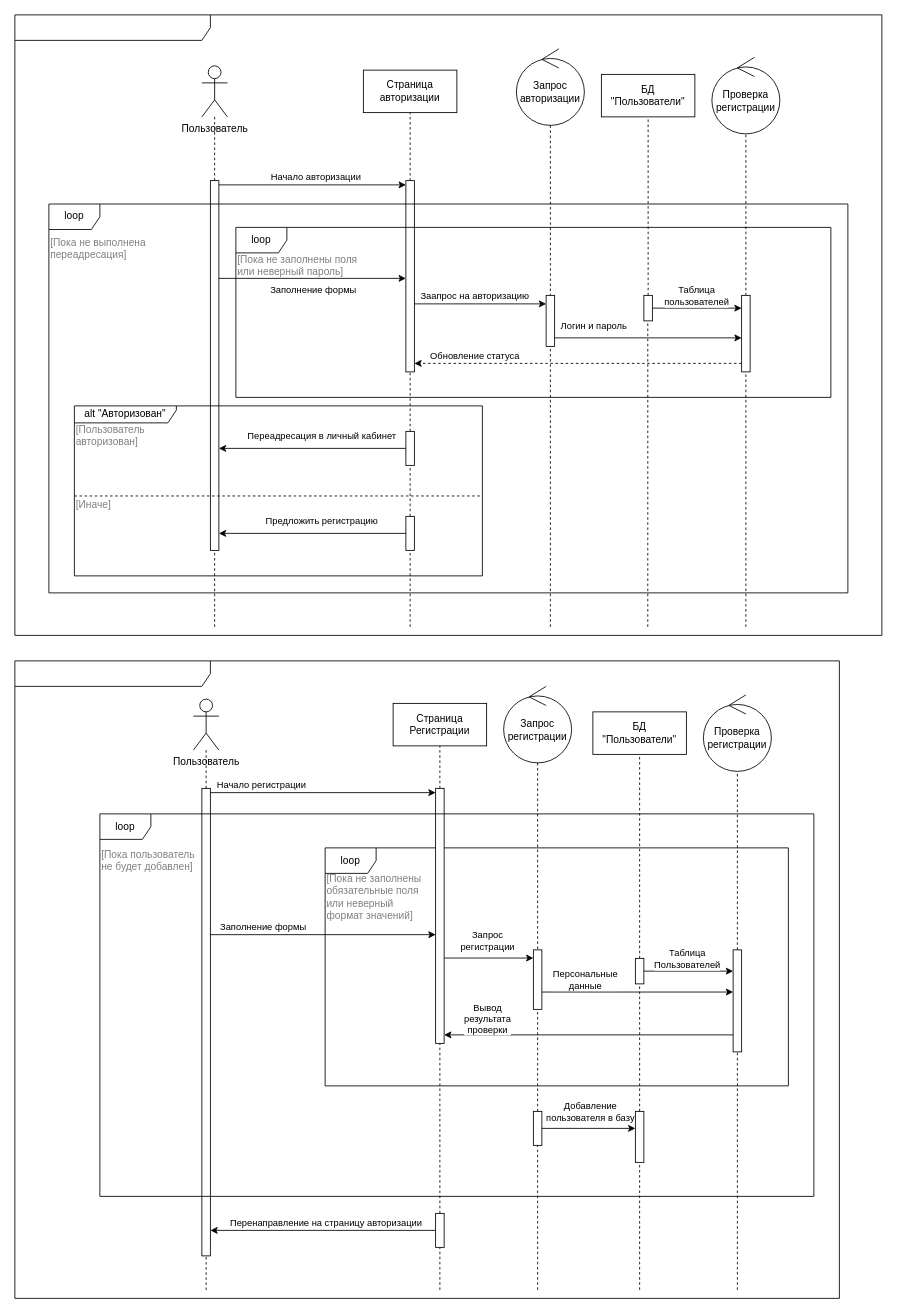
The diagram is 897 pixels wide and 1313 high, and some of its shapes have lost their labels. The box of each missing label's shape, as (x1, y1, x2, y2) in pixels:
sd "Авторизация пользователей": (14, 14, 882, 635)
sd "Регистрация пользователей": (14, 660, 839, 1298)
